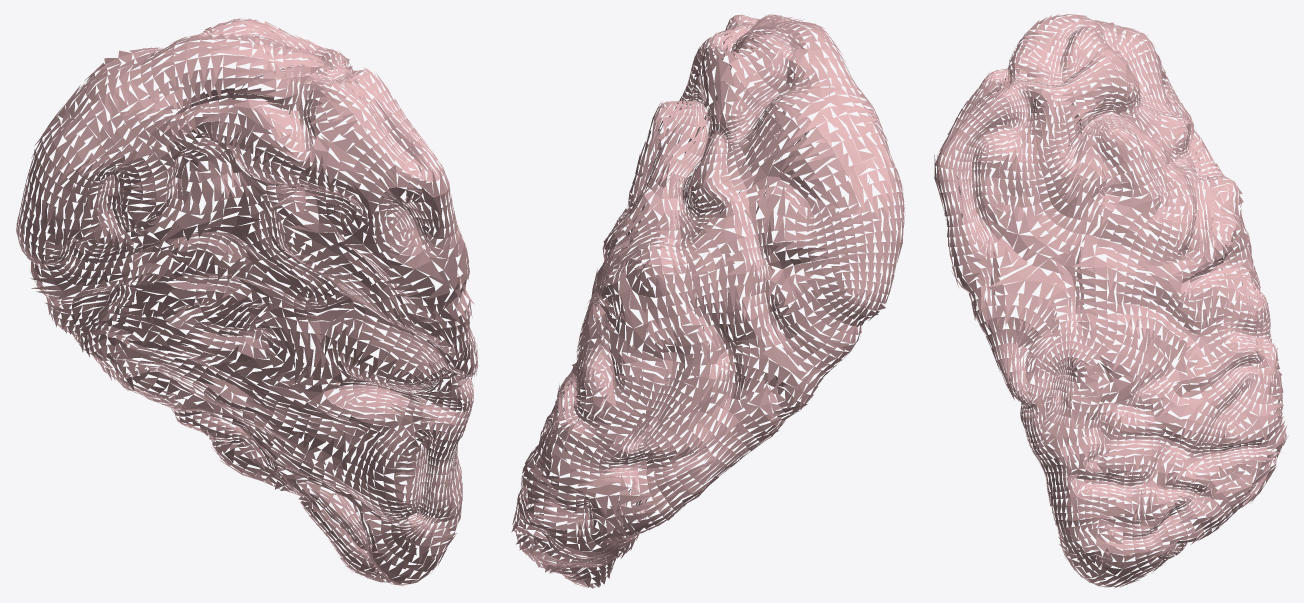
File: 3d-vh-f-palatine-tonsil-l_0.1.glb
3 views of the same model, side by side, from view 1: azimuth 30°, elevation 25°; view 2: azimuth 150°, elevation 25°; view 3: azimuth 270°, elevation 25° (orthographic). The views are drawn at different scales.
Visible parts, largest first — view 1: VH_F_palatine_tonsil_L; view 2: VH_F_palatine_tonsil_L; view 3: VH_F_palatine_tonsil_L.
Part boxes in pixels (<box>): VH_F_palatine_tonsil_L: <box>16,18,478,585</box>; VH_F_palatine_tonsil_L: <box>511,14,905,588</box>; VH_F_palatine_tonsil_L: <box>934,14,1288,588</box>.
Size of the model in its own units: 0.0164 by 0.0243 by 0.0161.
